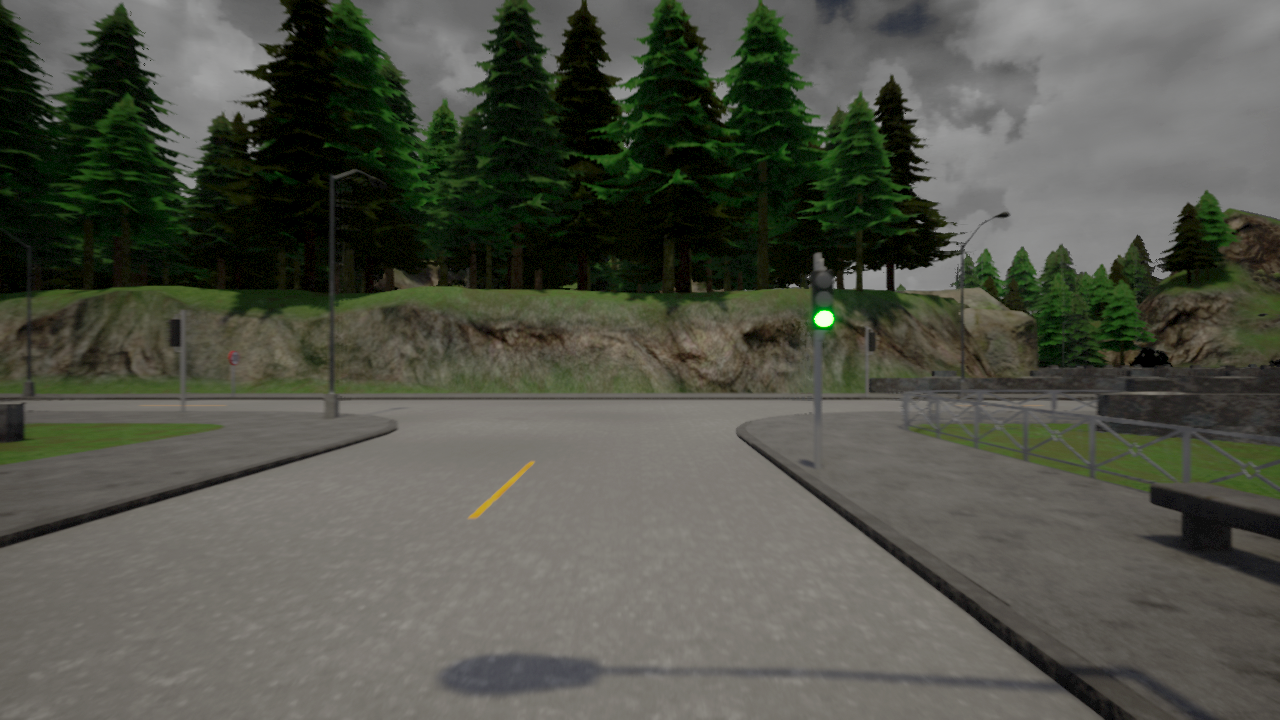green: (810, 267, 835, 334)
